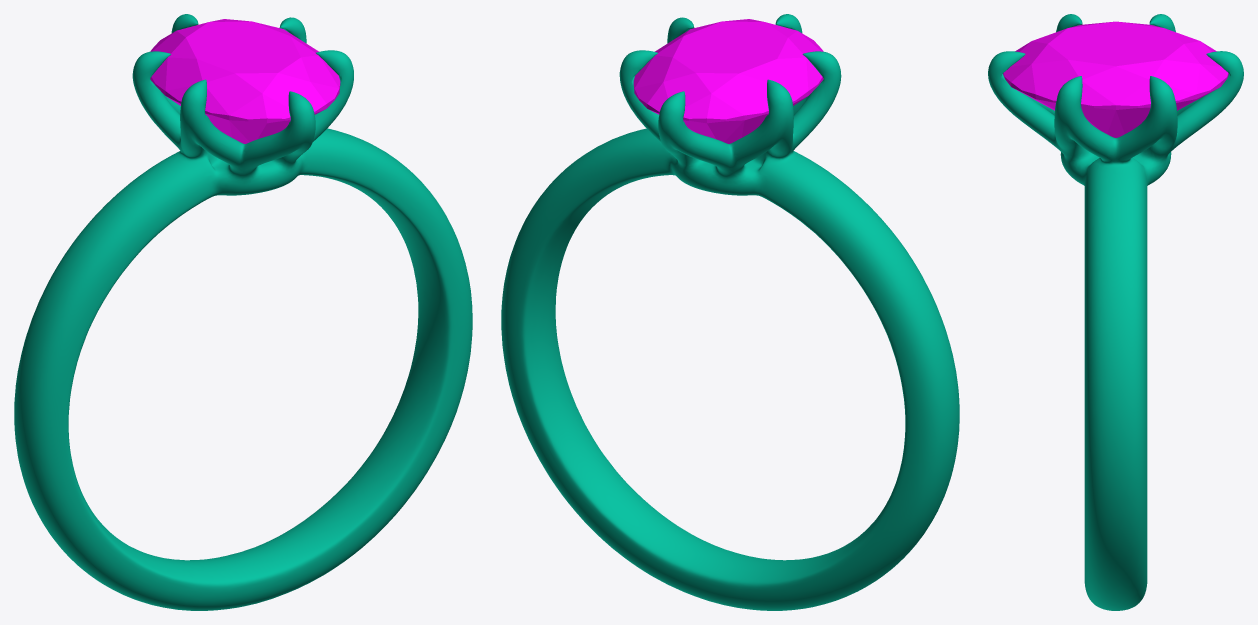
File: BE11961_OV_200ct_RENDER.glb
3 views of the same model, side by side, from view 1: azimuth 30°, elevation 25°; view 2: azimuth 150°, elevation 25°; view 3: azimuth 270°, elevation 25° (orthographic). The views are drawn at different scales.
Visible parts, largest first — view 1: Metal 01, CS_Diamond_Oval; view 2: Metal 01, CS_Diamond_Oval; view 3: Metal 01, CS_Diamond_Oval.
Part boxes in pixels (box(x1,y1,x2,y2)): Metal 01: box(14, 14, 472, 610); CS_Diamond_Oval: box(150, 19, 340, 143); Metal 01: box(501, 14, 959, 610); CS_Diamond_Oval: box(633, 19, 823, 143); Metal 01: box(988, 14, 1243, 610); CS_Diamond_Oval: box(1003, 21, 1228, 137).
Size of the model in its own units: 20.09 by 23.78 by 10.15.
